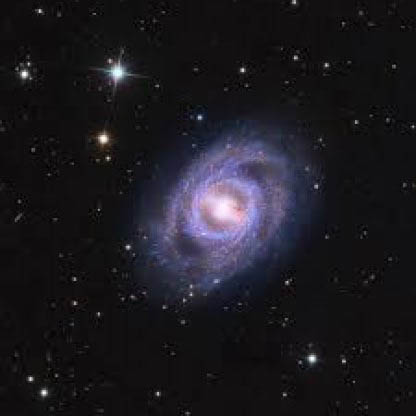Messier 95: (129, 114, 320, 322)
